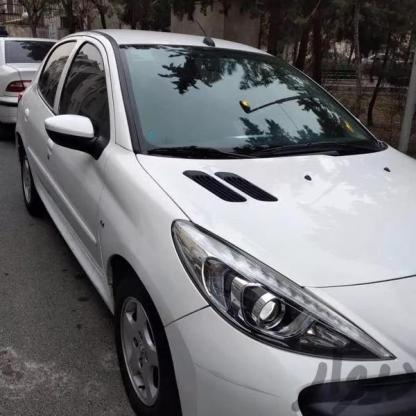Car: (0, 24, 416, 416), (0, 27, 63, 162)
